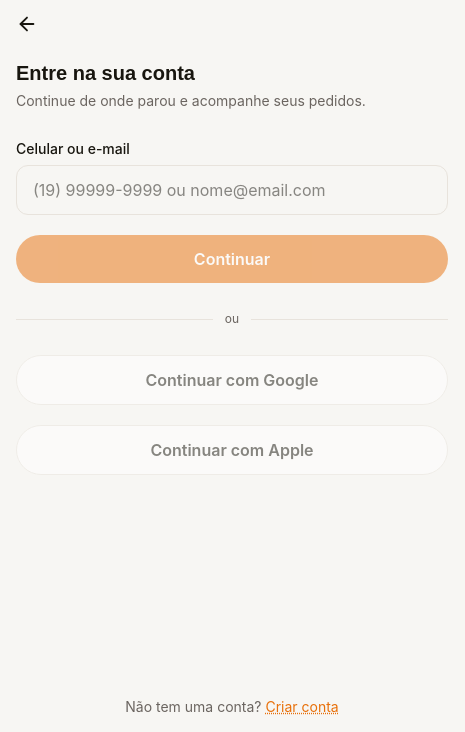
Test case: LoginScreen — e-mail e senha › usuário suspenso não consegue entrar
Type "admin@filazero.dev" into the field labelled "Celular ou e-mail". click: [232, 190]
box: [16, 165, 448, 215]
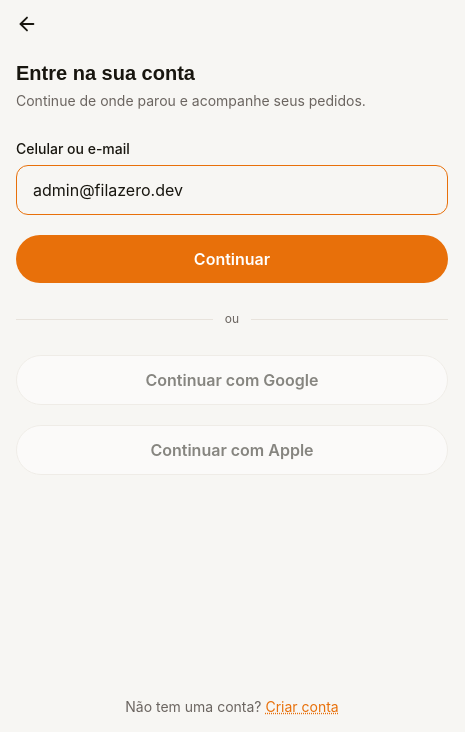
Click the button "Continuar". click: [232, 259]
box: [16, 235, 448, 283]
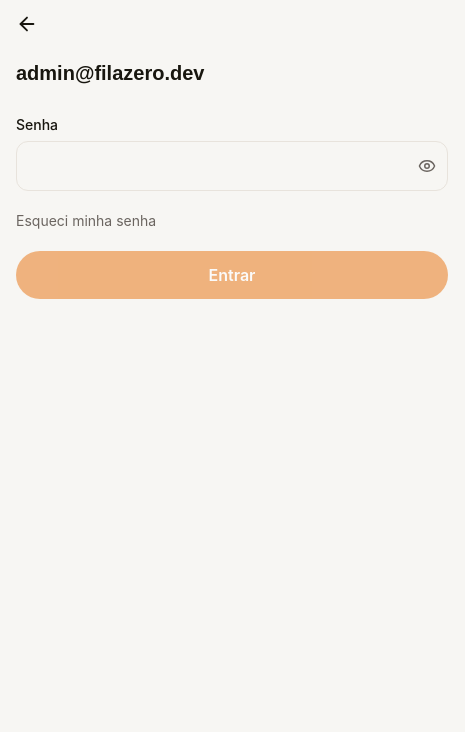
Type "Filazero@123" into the password field labelled "Senha". click: [232, 166]
box: [16, 141, 448, 191]
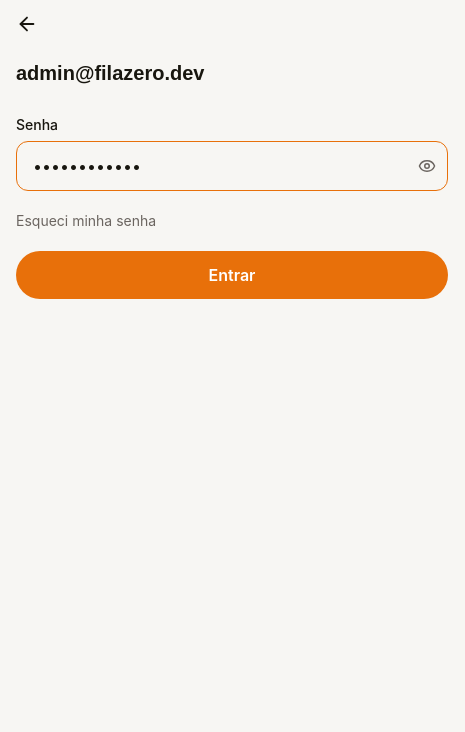
Click the button "Entrar". click: [232, 275]
box: [16, 251, 448, 299]
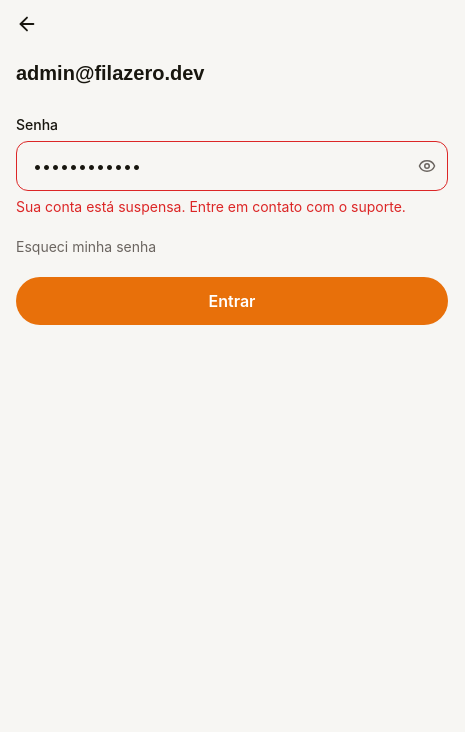
Check: the text "Sua conta está suspensa. Entre em contato com o suporte." is shown, box [16, 197, 448, 217]
